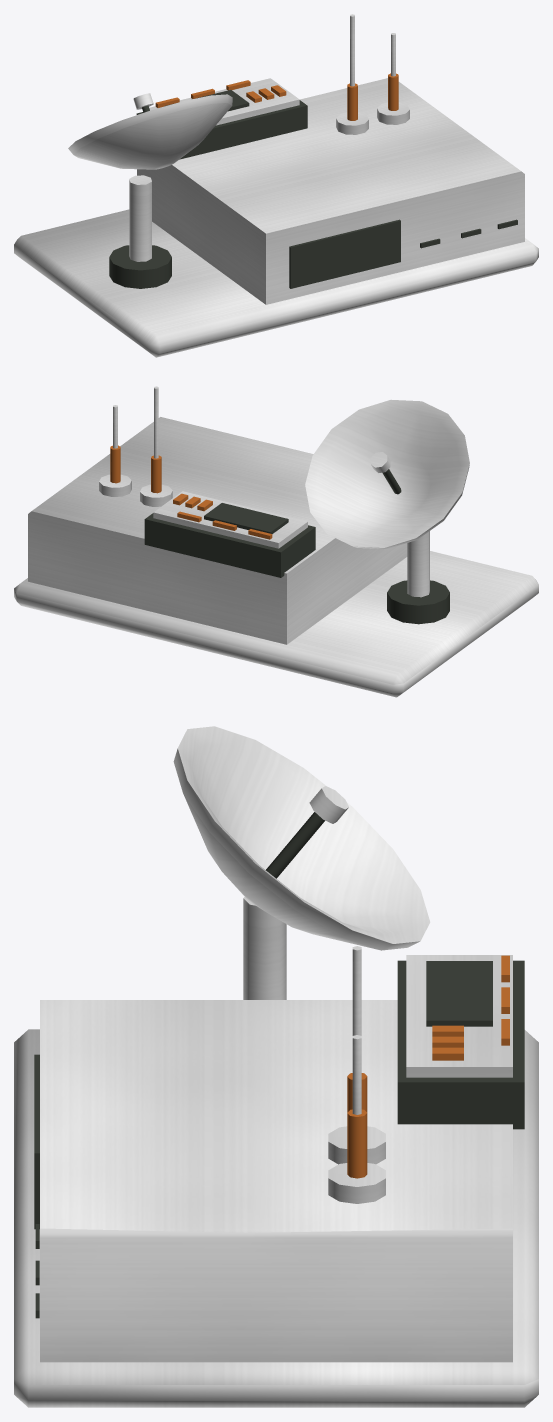
The model's file is ancient_comms.obj.
3 renders of one model, top to bottom at view 1: azimuth 30°, elevation 25°; view 2: azimuth 150°, elevation 25°; view 3: azimuth 270°, elevation 25°, orthographic. The views are drawn at different scales.
Visible parts, largest first — view 1: source_component_001, source_component_000, source_component_020, source_component_002, source_component_003, source_component_018, source_component_019, source_component_004, source_component_015, source_component_012; view 2: source_component_001, source_component_000, source_component_020, source_component_003, source_component_004, source_component_018, source_component_005, source_component_019, source_component_015, source_component_012, source_component_013, source_component_016; view 3: source_component_001, source_component_000, source_component_020, source_component_003, source_component_004, source_component_005, source_component_019, source_component_015, source_component_016, source_component_012, source_component_021, source_component_002 (+3 smaller).
Boxes of the visible parts, x1,y1,x2,y2 form: source_component_001: [137, 78, 524, 304]; source_component_000: [14, 209, 538, 357]; source_component_020: [68, 94, 232, 169]; source_component_002: [289, 219, 400, 288]; source_component_003: [136, 100, 307, 159]; source_component_018: [109, 245, 171, 288]; source_component_019: [129, 175, 151, 261]; source_component_004: [149, 78, 299, 125]; source_component_015: [377, 102, 409, 124]; source_component_012: [336, 112, 368, 134]; source_component_001: [28, 417, 407, 644]; source_component_000: [14, 551, 538, 697]; source_component_020: [305, 399, 469, 549]; source_component_003: [144, 513, 315, 577]; source_component_004: [153, 491, 307, 548]; source_component_018: [387, 580, 449, 624]; source_component_005: [204, 503, 288, 533]; source_component_019: [407, 531, 429, 597]; source_component_015: [99, 474, 131, 496]; source_component_012: [140, 484, 172, 506]; source_component_013: [151, 455, 161, 493]; source_component_016: [110, 445, 120, 483]; source_component_001: [40, 1000, 512, 1362]; source_component_000: [14, 1029, 538, 1407]; source_component_020: [173, 726, 430, 950]; source_component_003: [397, 960, 524, 1129]; source_component_004: [406, 955, 512, 1077]; source_component_005: [426, 961, 492, 1026]; source_component_019: [243, 897, 286, 999]; source_component_015: [328, 1163, 385, 1203]; source_component_016: [347, 1109, 367, 1178]; source_component_012: [328, 1126, 385, 1164]; source_component_021: [266, 812, 324, 878]; source_component_002: [34, 1054, 39, 1229].
Bounding box in the file's own units: 2.86 × 1.47 × 1.82.
